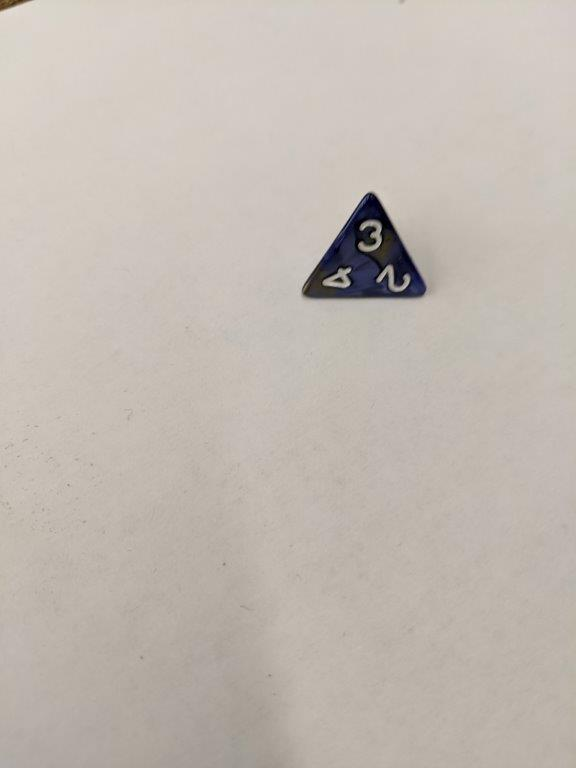d4-3: (299, 187, 431, 305)
